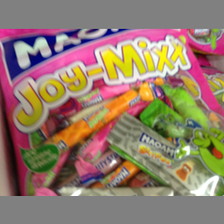candy: (1, 28, 223, 196)
